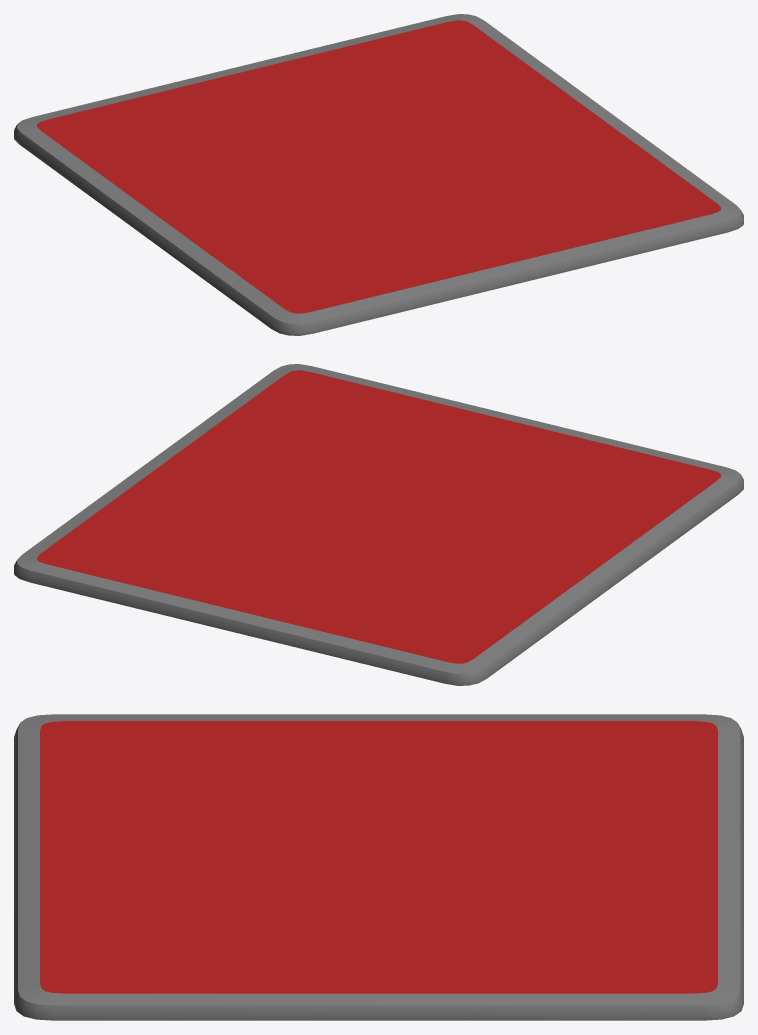
Rendered from SM_carpet_02.fbx.
3 views of the same model, one above another, from view 1: azimuth 30°, elevation 25°; view 2: azimuth 150°, elevation 25°; view 3: azimuth 270°, elevation 25° (orthographic). The views are drawn at different scales.
Visible parts, largest first — view 1: Box344; view 2: Box344; view 3: Box344.
Boxes of the visible parts, box(x1,y1,x2,y2) form: Box344: box(14, 14, 743, 335); Box344: box(14, 364, 743, 685); Box344: box(14, 714, 743, 1020).
Size of the model in its own units: 146 by 3.73 by 153.
